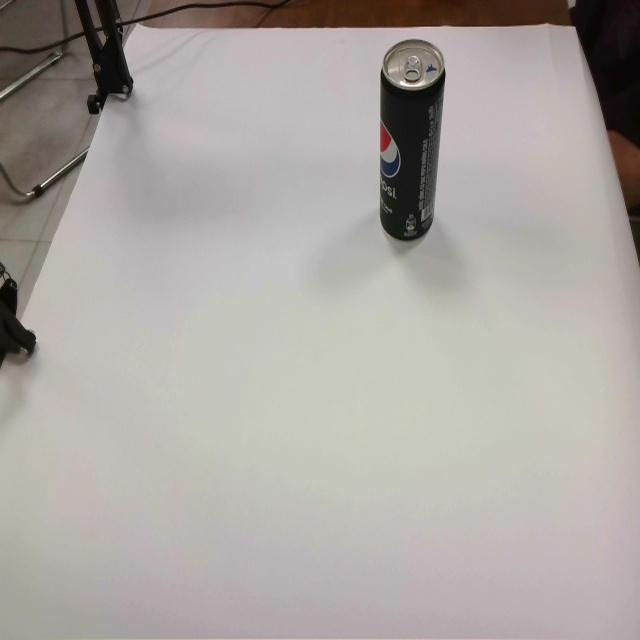debris: (379, 37, 447, 242)
